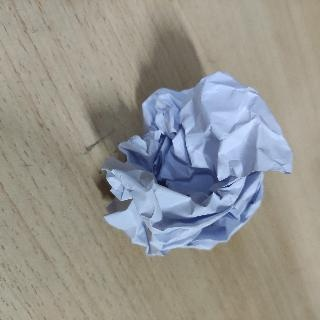8/可回收垃圾/纸: (100, 70, 293, 257)
